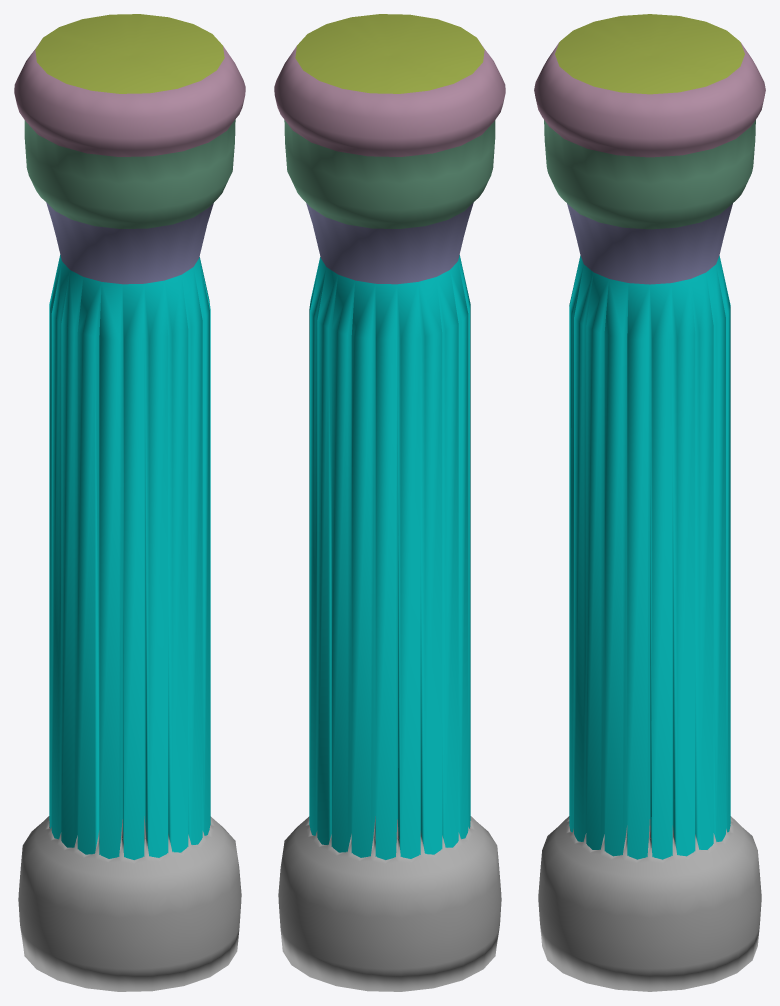
The model's file is pilier.fbx.
The picture shows the model from 3 angles, left to right: view 1: azimuth 30°, elevation 25°; view 2: azimuth 150°, elevation 25°; view 3: azimuth 270°, elevation 25°; orthographic projection.
Parts seen in each view (by area): view 1: pasted__pasted__pCylinder1; view 2: pasted__pasted__pCylinder1; view 3: pasted__pasted__pCylinder1.
Boxes of the visible parts, x1,y1,x2,y2 form: pasted__pasted__pCylinder1: [14, 14, 245, 991]; pasted__pasted__pCylinder1: [274, 14, 505, 991]; pasted__pasted__pCylinder1: [534, 14, 765, 991].
Bounding box in the file's own units: 3.31 × 14.06 × 3.31.
